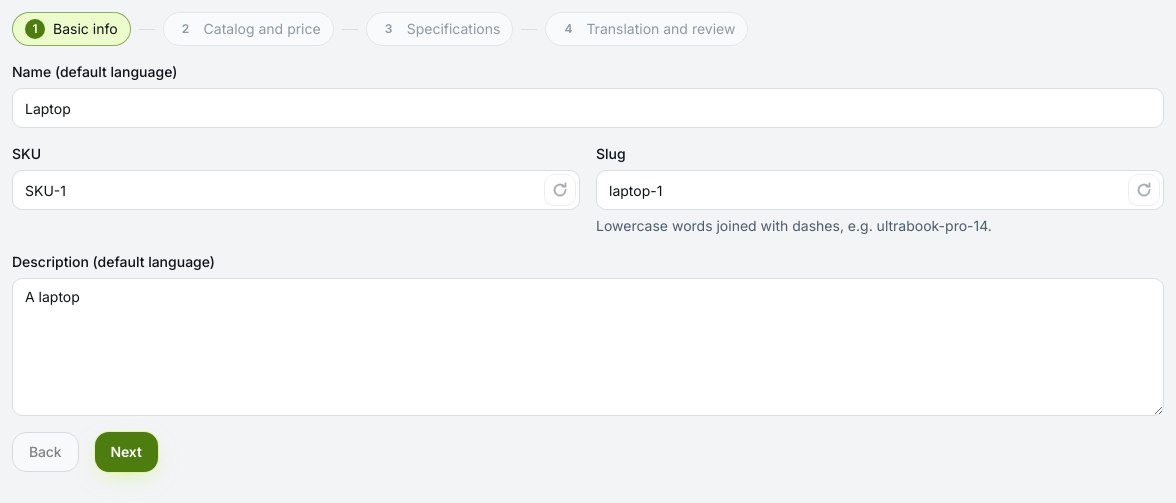
Test: ProductForm wizard › navigates back to a visited step
Step 1. Click the button "Next" → x=126, y=452, box [94,432,158,472]
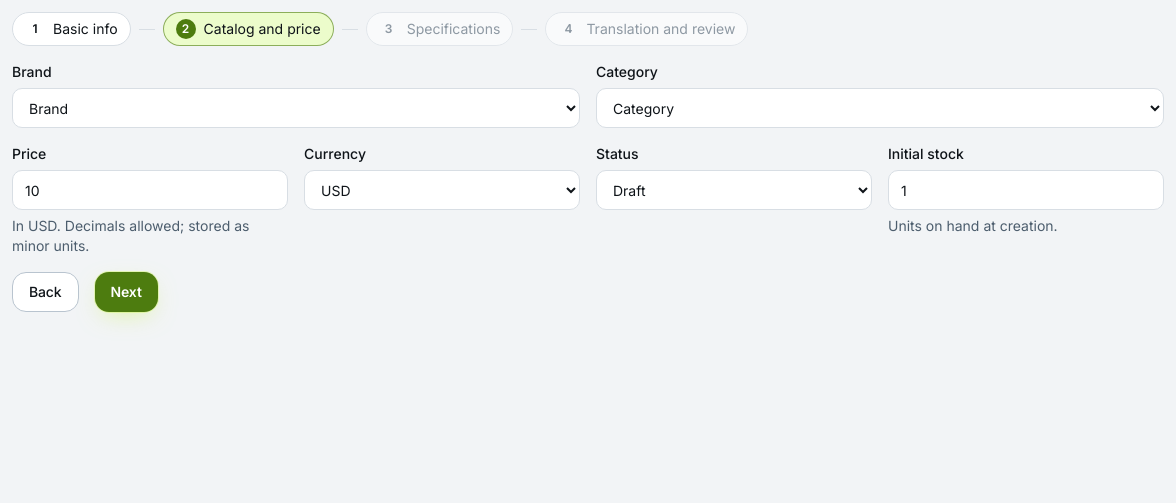
Expected: the dropdown labelled "Brand" is shown, [12,88,580,128]
Step 2. Click the button "Back" → x=45, y=292, box [12,272,78,312]
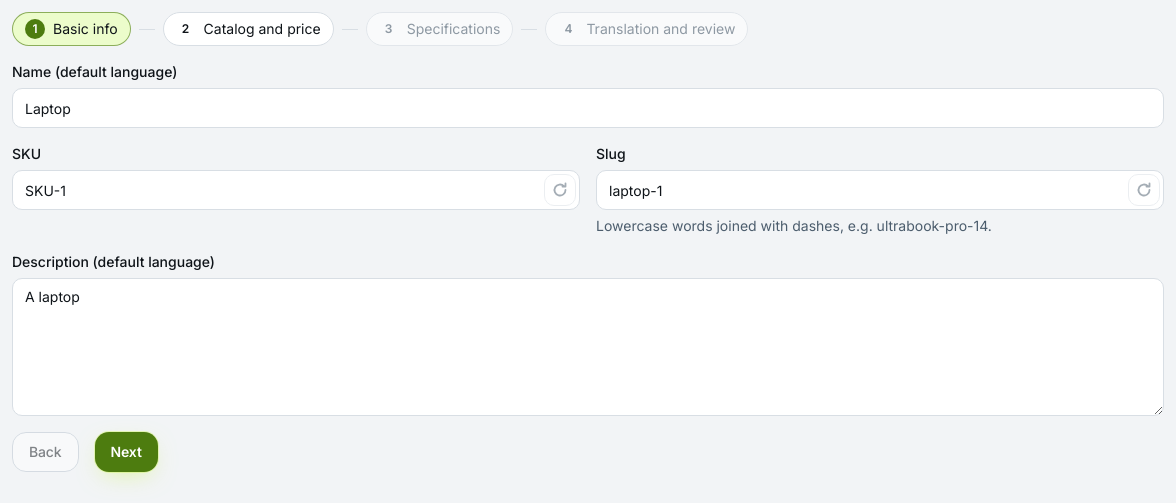
Expected: the field labelled "SKU" is shown, [12,170,580,210]
